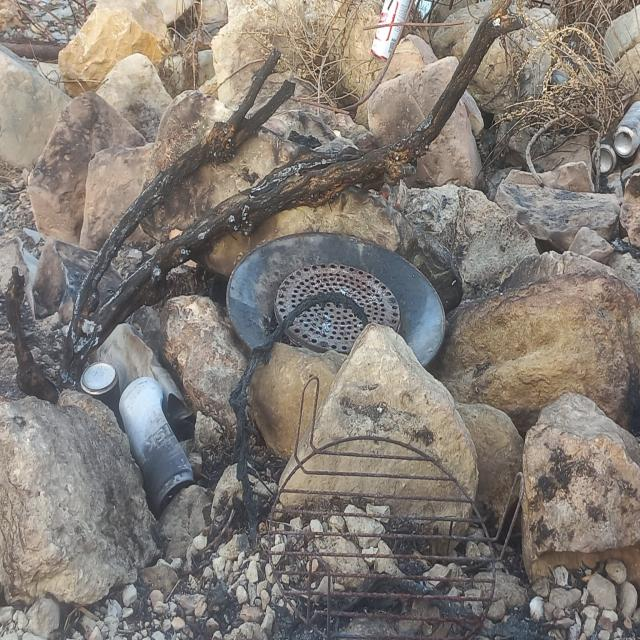Can: (116, 377, 196, 513), (95, 323, 195, 421), (79, 360, 124, 431), (371, 0, 411, 64), (613, 100, 640, 157), (591, 131, 618, 176)
Other litter: (265, 376, 527, 640), (222, 229, 444, 368), (550, 70, 568, 86)
